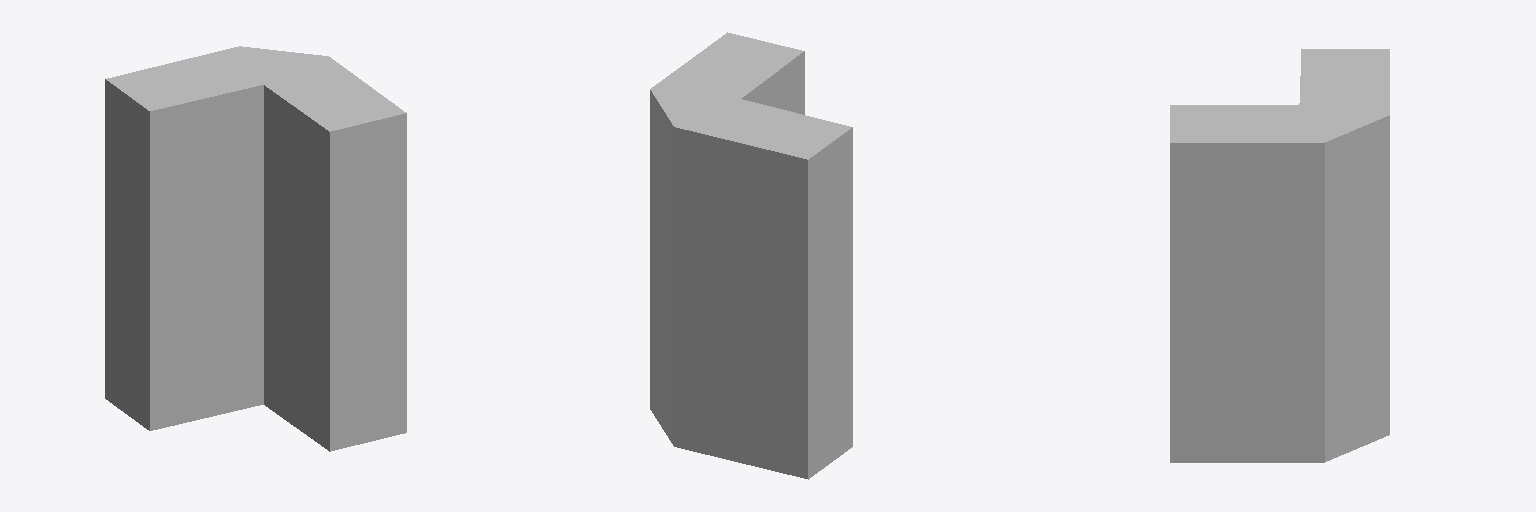
The model's file is wall_corner.obj.
3 views of the same model, side by side, from view 1: azimuth 30°, elevation 25°; view 2: azimuth 150°, elevation 25°; view 3: azimuth 270°, elevation 25° (orthographic).
Visible parts, largest first — view 1: Cube; view 2: Cube; view 3: Cube.
Part boxes in pixels (x1,y1,x2,y2): Cube: (105,46,406,451); Cube: (650,32,852,479); Cube: (1170,49,1389,462).
Size of the model in its own units: 2.5 by 4 by 2.5.